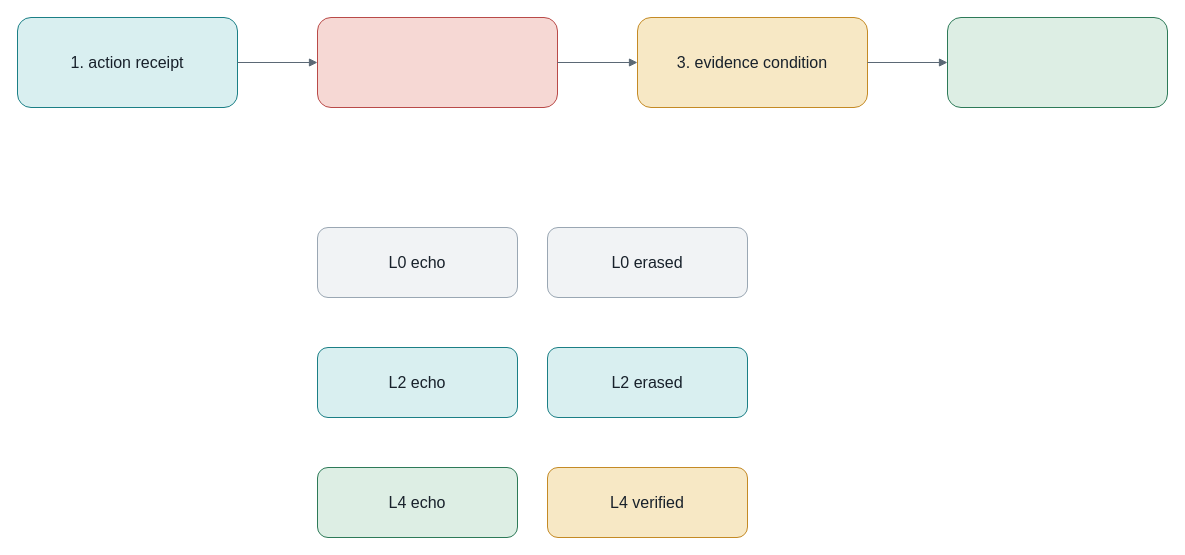
Some shapes in this 1185 by 555 pixel diagram are drawn without their labels. Here are the shapes that lost their labels. From the top down, the centre of each, then its label:
At (x=437, y=62): "2. trusted partial fault".
At (x=1057, y=62): "4. submit / hold".
